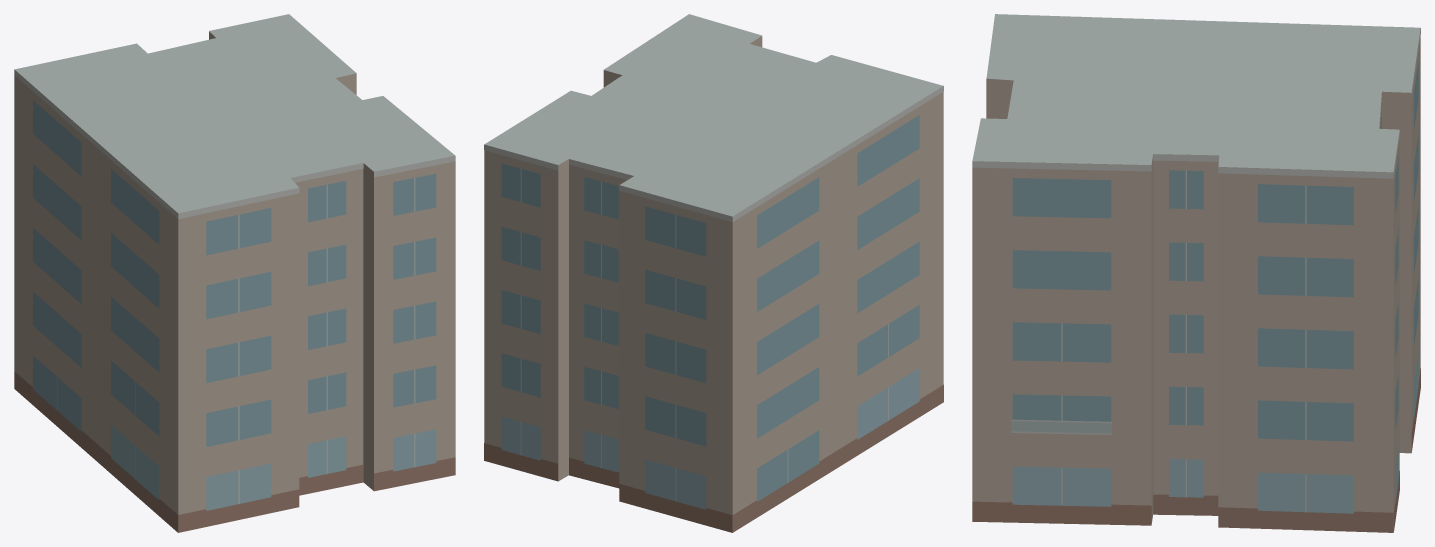
File: survey-upis-32905238.glb
The picture shows the model from 3 angles, left to right: view 1: azimuth 30°, elevation 25°; view 2: azimuth 150°, elevation 25°; view 3: azimuth 270°, elevation 25°; orthographic projection. The views are drawn at different scales.
Visible parts, largest first — view 1: survey-upis-32905238.tmp; view 2: survey-upis-32905238.tmp; view 3: survey-upis-32905238.tmp.
Part boxes in pixels (x1,y1,x2,y2): survey-upis-32905238.tmp: (14, 14, 455, 532); survey-upis-32905238.tmp: (484, 14, 943, 532); survey-upis-32905238.tmp: (972, 14, 1420, 532).
Bounding box in the file's own units: 12.91 × 13.7 × 15.45.
